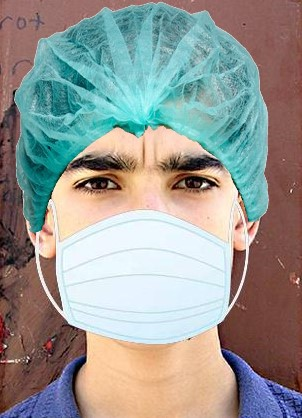with_mask_and_cap: (23, 9, 259, 348)
